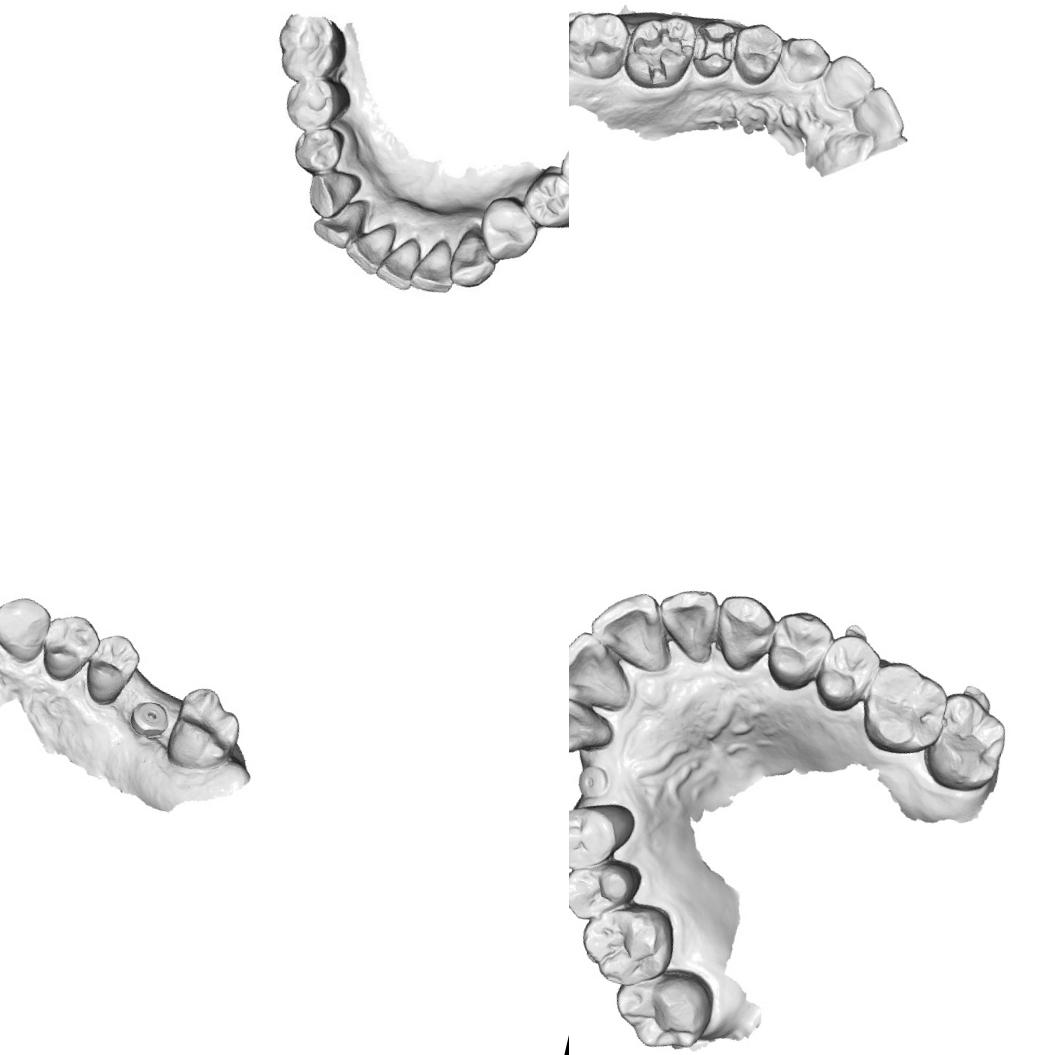canine: (708, 589, 780, 677), (0, 589, 56, 668), (301, 165, 364, 225), (773, 31, 835, 90), (446, 228, 500, 294)
implant: (124, 695, 174, 744), (572, 761, 613, 803)
incisor: (582, 582, 684, 676), (569, 625, 646, 714), (648, 580, 725, 666), (846, 79, 914, 145), (818, 50, 882, 117), (307, 193, 370, 253), (569, 694, 621, 765), (338, 218, 396, 278), (407, 236, 460, 300), (373, 233, 424, 296)
inlay: (622, 17, 691, 90), (688, 22, 739, 71)
molar: (604, 956, 721, 1055), (851, 654, 954, 764), (572, 893, 677, 998), (917, 687, 1016, 798), (161, 680, 249, 780), (268, 6, 348, 87), (569, 1, 640, 86)
premolar: (759, 605, 837, 698), (807, 626, 885, 718), (569, 789, 640, 883), (35, 608, 106, 690), (78, 627, 146, 711), (278, 66, 356, 138), (472, 192, 544, 270), (569, 852, 638, 932), (726, 17, 788, 90), (515, 163, 569, 234), (285, 122, 349, 181)
